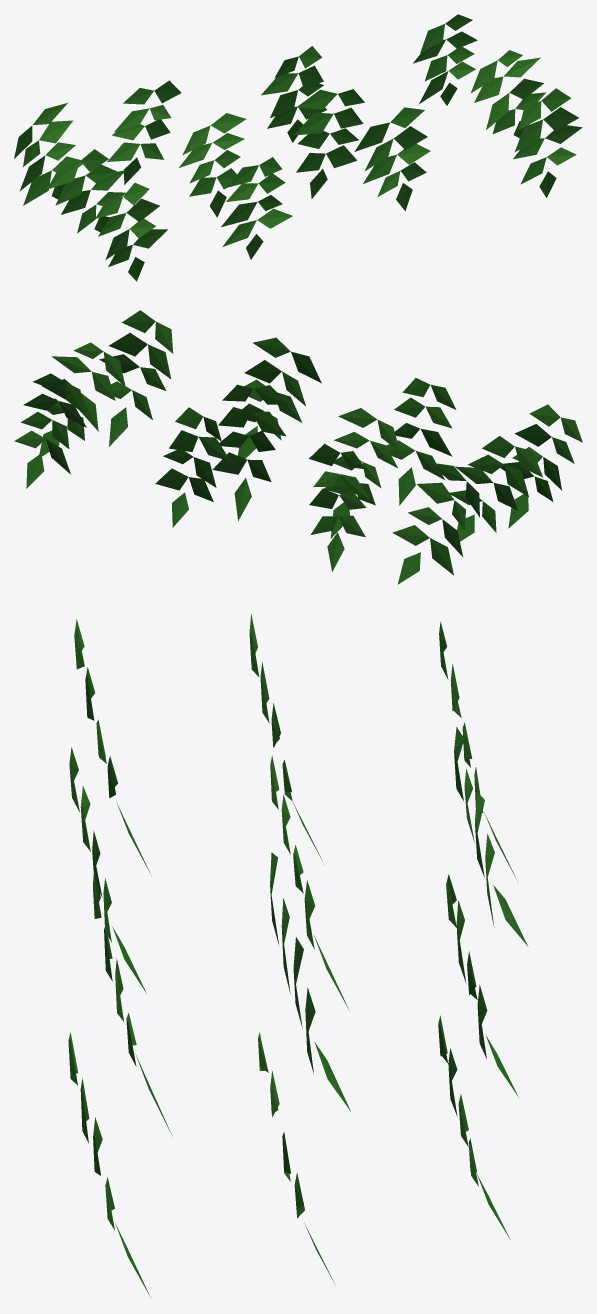
3 renders of one model, top to bottom at view 1: azimuth 30°, elevation 25°; view 2: azimuth 150°, elevation 25°; view 3: azimuth 270°, elevation 25°, orthographic. The views are drawn at different scales.
Parts seen in each view (by area): view 1: r18c4_l01; view 2: r18c4_l01; view 3: r18c4_l01.
Part boxes in pixels (left/top/right/bottom): r18c4_l01: left=14, top=14, right=582, bottom=281; r18c4_l01: left=14, top=310, right=582, bottom=584; r18c4_l01: left=68, top=614, right=528, bottom=1297.
Bounding box in the file's own units: 2.01 × 0.5254 × 0.8019.
